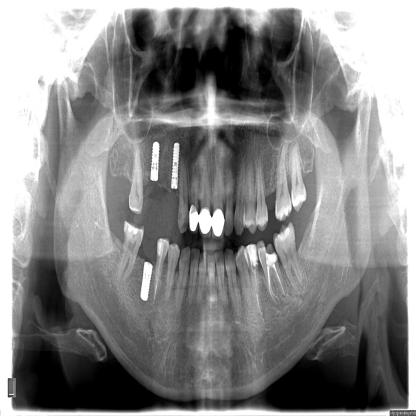ITI: (140, 261, 154, 301), (170, 140, 180, 191), (150, 140, 160, 182)
